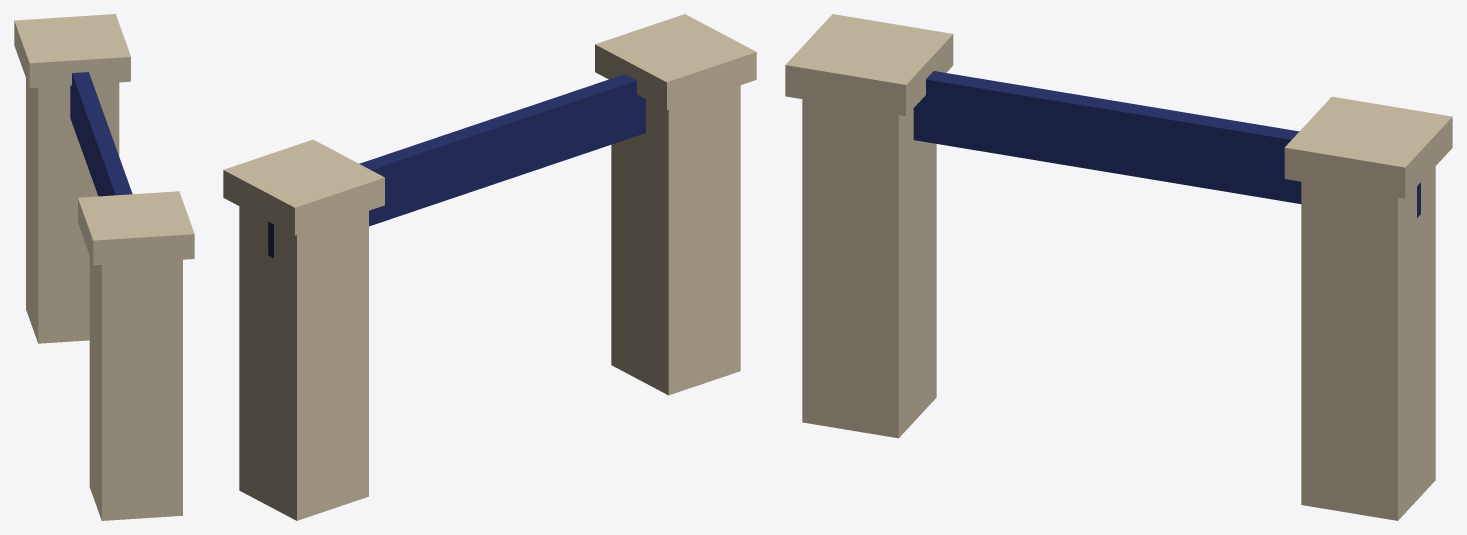
The model's file is kapi_a.glb.
The picture shows the model from 3 angles, left to right: view 1: azimuth 30°, elevation 25°; view 2: azimuth 150°, elevation 25°; view 3: azimuth 270°, elevation 25°; orthographic projection. The views are drawn at different scales.
Parts seen in each view (by area): view 1: kapi_a; view 2: kapi_a; view 3: kapi_a.
Part boxes in pixels (bbox=[...]): kapi_a: bbox=[14, 14, 194, 520]; kapi_a: bbox=[223, 14, 756, 520]; kapi_a: bbox=[785, 14, 1452, 520].
Size of the model in its own units: 4.2 by 4.6 by 7.72.
